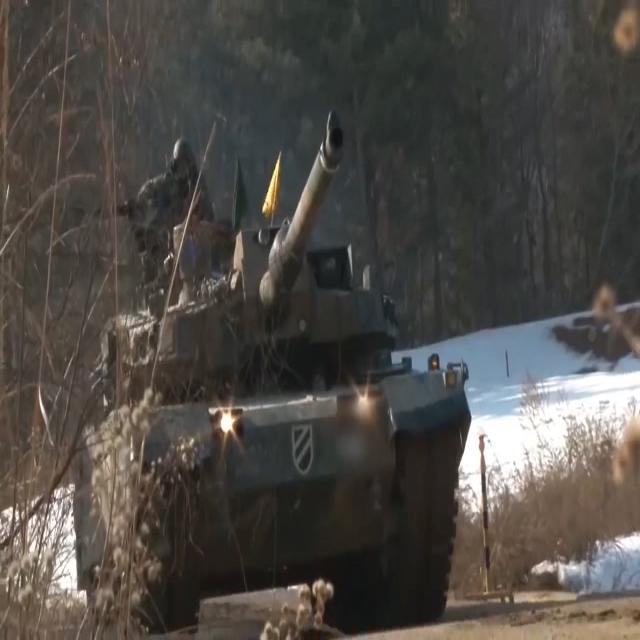korea tank: (69, 101, 476, 640)
